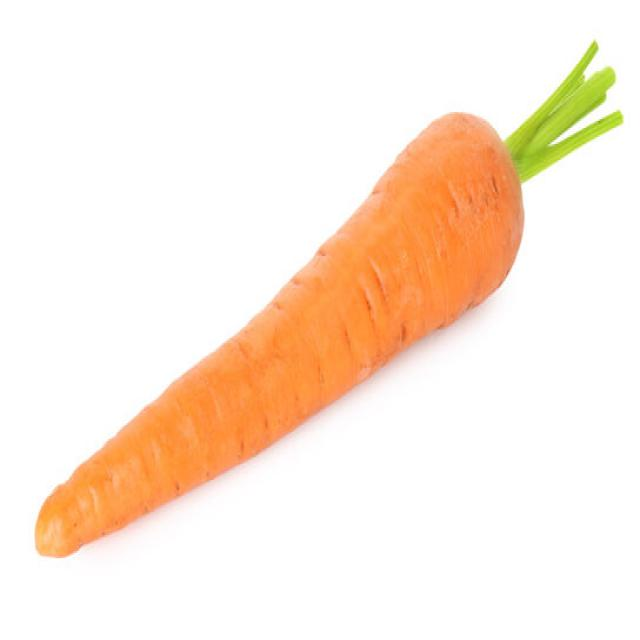Carrot: (33, 38, 622, 558)
